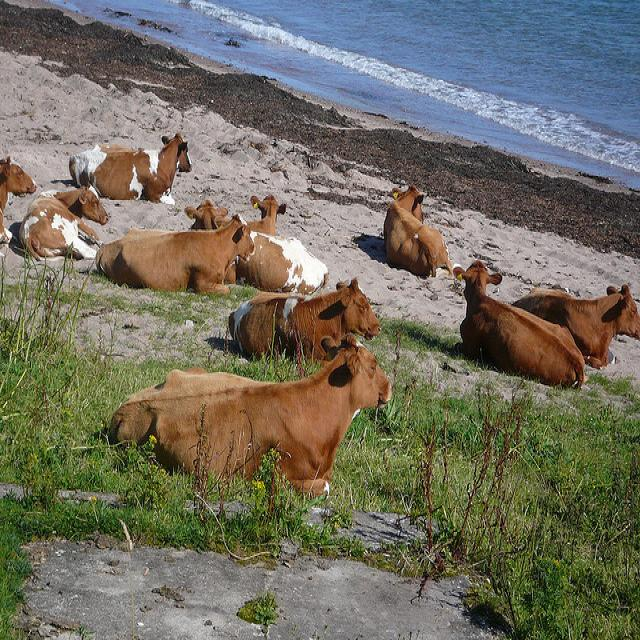cow: (106, 333, 393, 500), (452, 257, 583, 388), (184, 204, 326, 296), (510, 283, 639, 368), (230, 285, 376, 359), (91, 219, 253, 285), (66, 129, 191, 204), (381, 182, 453, 278), (20, 185, 107, 256), (0, 155, 37, 243), (246, 196, 284, 233)
